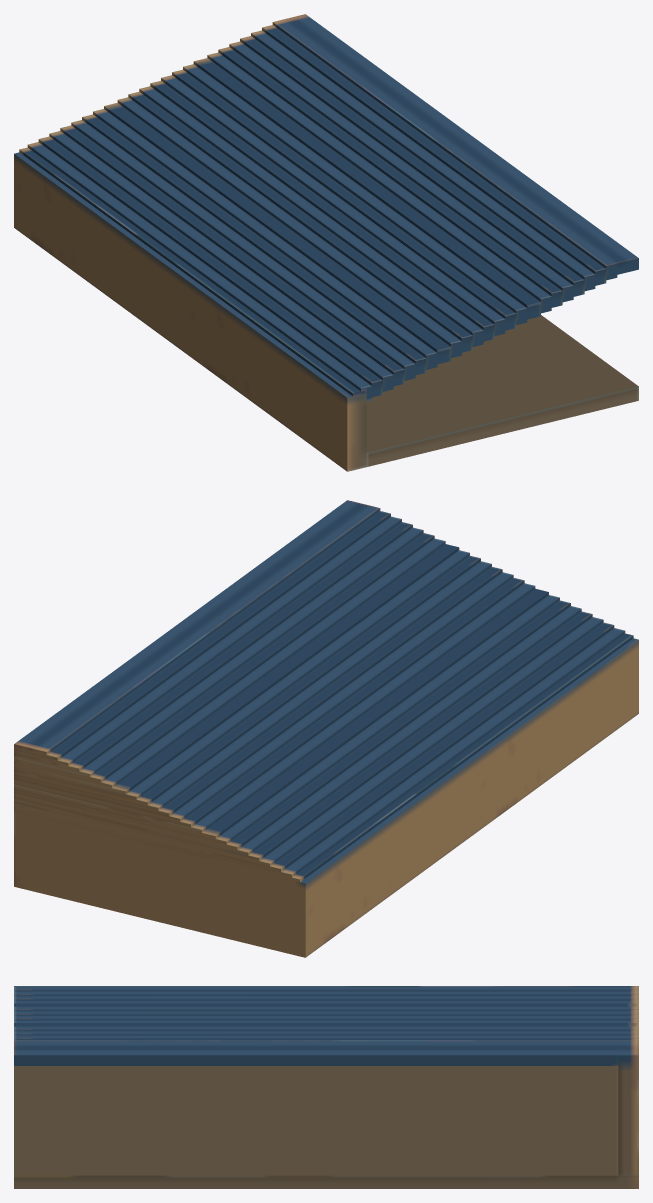
File: Roof_B_00.obj
3 views of the same model, one above another, from view 1: azimuth 30°, elevation 25°; view 2: azimuth 150°, elevation 25°; view 3: azimuth 270°, elevation 25° (orthographic). The views are drawn at different scales.
Parts seen in each view (by area): view 1: Roof_B_00; view 2: Roof_B_00; view 3: Roof_B_00.
Boxes of the visible parts, x1,y1,x2,y2 form: Roof_B_00: (14, 14, 638, 471); Roof_B_00: (14, 500, 638, 957); Roof_B_00: (14, 986, 638, 1188).
Size of the model in its own units: 5.35 by 2.5 by 10.6.
